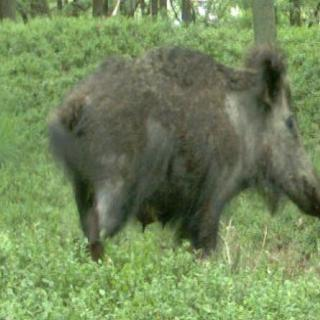Pig: (48, 32, 320, 265)
